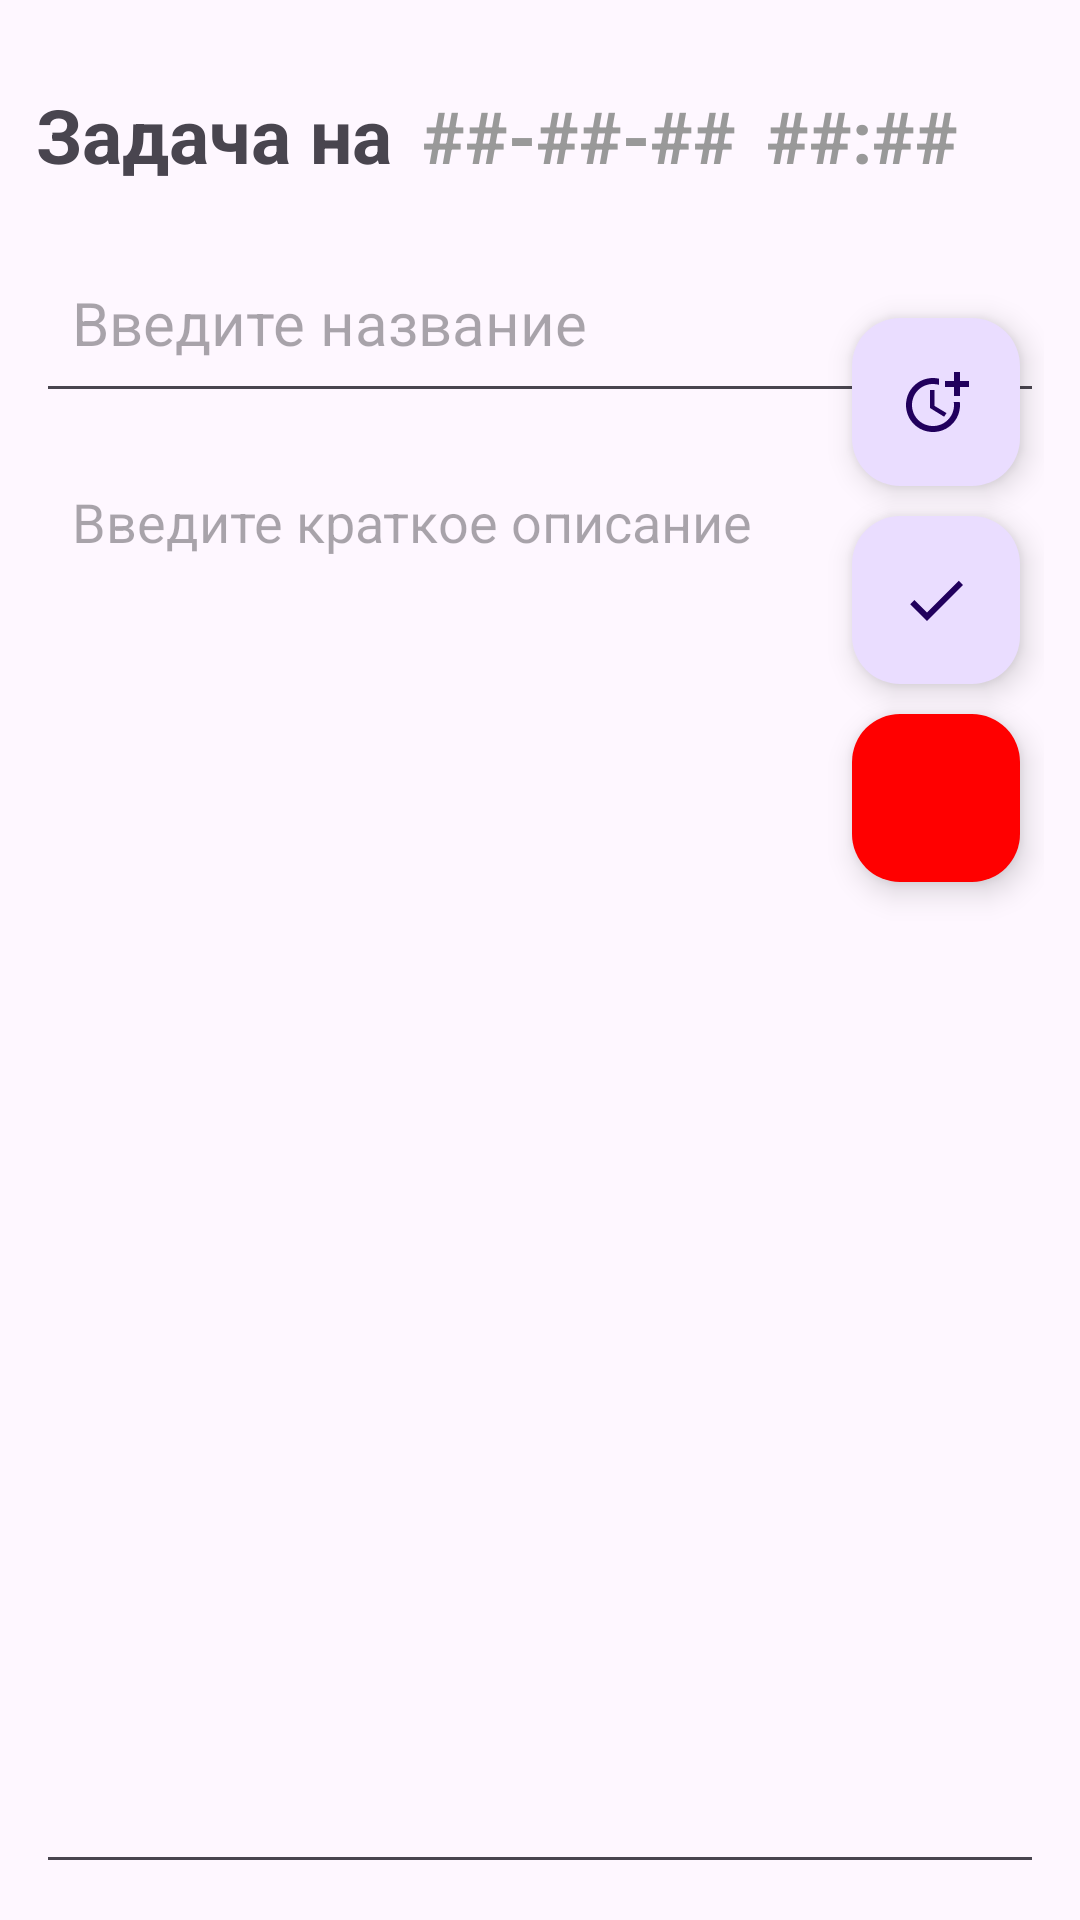

Icon click points for this 1080w x 1920h phone screenshot, format point (x, y):
add time: point (936, 402)
done: point (936, 600)
